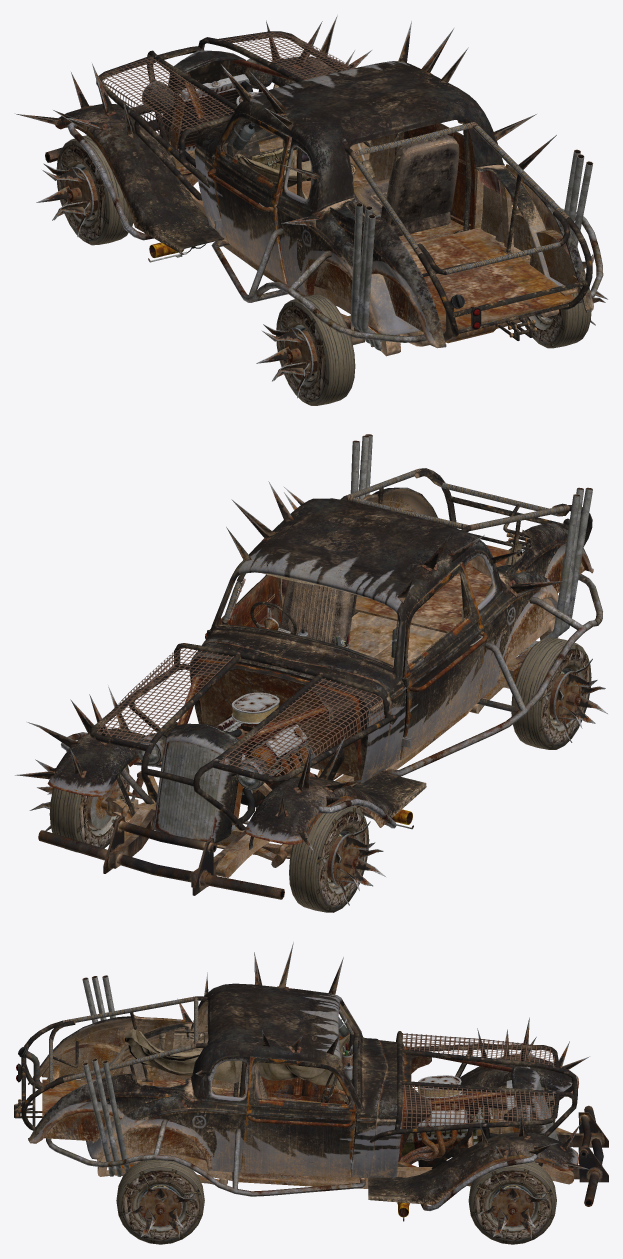
The picture shows the model from 3 angles, top to bottom: view 1: azimuth 30°, elevation 25°; view 2: azimuth 150°, elevation 25°; view 3: azimuth 270°, elevation 25°; orthographic projection. The views are drawn at different scales.
Visible parts, largest first — view 1: Mesh_0066_Tex_0054_0.dds_0, Mesh_0069_Tex_0045_0.dds_0, Mesh_0042_Tex_0042_0.dds_0, Mesh_079_Tex_0078_0.dds_0, Mesh_0073_Tex_0054_0.dds_0, Mesh_0001_Tex_0001_0.dds_0, Mesh_0047_Tex_0046_0.dds_0, Mesh_0075_Tex_0074_0.dds_0, Mesh_0077_Tex_0058_0.dds_0, Mesh_0051_Tex_0048_0.dds_0, Mesh_0078_Tex_0078_0.dds_0, Mesh_0049_Tex_0048_0.dds_0 (+4 smaller); view 2: Mesh_0066_Tex_0054_0.dds_0, Mesh_0069_Tex_0045_0.dds_0, Mesh_0001_Tex_0001_0.dds_0, Mesh_0073_Tex_0054_0.dds_0, Mesh_0078_Tex_0078_0.dds_0, Mesh_0071_Tex_0070_0.dds_0, Mesh_0075_Tex_0074_0.dds_0, Mesh_0042_Tex_0042_0.dds_0, Mesh_079_Tex_0078_0.dds_0, Mesh_0077_Tex_0058_0.dds_0, Mesh_0049_Tex_0048_0.dds_0, Mesh_0051_Tex_0048_0.dds_0 (+5 smaller); view 3: Mesh_0066_Tex_0054_0.dds_0, Mesh_0069_Tex_0045_0.dds_0, Mesh_0055_Tex_0054_0.dds_0, Mesh_0001_Tex_0001_0.dds_0, Mesh_0047_Tex_0046_0.dds_0, Mesh_079_Tex_0078_0.dds_0, Mesh_0078_Tex_0078_0.dds_0, Mesh_0049_Tex_0048_0.dds_0, Mesh_0075_Tex_0074_0.dds_0, Mesh_0051_Tex_0048_0.dds_0, Mesh_0077_Tex_0058_0.dds_0, Mesh_0071_Tex_0070_0.dds_0 (+6 smaller).
Part boxes in pixels (x1,y1,x2,y2): Mesh_0066_Tex_0054_0.dds_0: (55, 50, 593, 348); Mesh_0069_Tex_0045_0.dds_0: (96, 31, 592, 346); Mesh_0042_Tex_0042_0.dds_0: (223, 123, 471, 236); Mesh_079_Tex_0078_0.dds_0: (276, 293, 591, 405); Mesh_0073_Tex_0054_0.dds_0: (207, 113, 289, 283); Mesh_0001_Tex_0001_0.dds_0: (101, 32, 353, 151); Mesh_0047_Tex_0046_0.dds_0: (227, 118, 569, 340); Mesh_0075_Tex_0074_0.dds_0: (67, 59, 603, 342); Mesh_0077_Tex_0058_0.dds_0: (15, 15, 556, 226); Mesh_0051_Tex_0048_0.dds_0: (350, 149, 593, 350); Mesh_0078_Tex_0078_0.dds_0: (56, 135, 133, 245); Mesh_0049_Tex_0048_0.dds_0: (170, 74, 261, 167); Mesh_0066_Tex_0054_0.dds_0: (47, 487, 593, 849); Mesh_0069_Tex_0045_0.dds_0: (90, 468, 592, 877); Mesh_0001_Tex_0001_0.dds_0: (95, 647, 385, 775); Mesh_0073_Tex_0054_0.dds_0: (399, 562, 487, 759); Mesh_0078_Tex_0078_0.dds_0: (49, 765, 369, 912); Mesh_0071_Tex_0070_0.dds_0: (38, 809, 284, 899); Mesh_0075_Tex_0074_0.dds_0: (61, 574, 602, 828); Mesh_0042_Tex_0042_0.dds_0: (219, 564, 468, 668); Mesh_079_Tex_0078_0.dds_0: (511, 637, 591, 749); Mesh_0077_Tex_0058_0.dds_0: (15, 481, 564, 850); Mesh_0049_Tex_0048_0.dds_0: (216, 692, 318, 831); Mesh_0051_Tex_0048_0.dds_0: (332, 434, 592, 780); Mesh_0066_Tex_0054_0.dds_0: (16, 983, 578, 1204); Mesh_0069_Tex_0045_0.dds_0: (14, 996, 577, 1188); Mesh_0055_Tex_0054_0.dds_0: (240, 1057, 356, 1177); Mesh_0001_Tex_0001_0.dds_0: (400, 1033, 556, 1129); Mesh_0047_Tex_0046_0.dds_0: (18, 996, 353, 1103); Mesh_079_Tex_0078_0.dds_0: (116, 1159, 204, 1244); Mesh_0078_Tex_0078_0.dds_0: (468, 1085, 556, 1244); Mesh_0049_Tex_0048_0.dds_0: (400, 1075, 519, 1166); Mesh_0075_Tex_0074_0.dds_0: (46, 1053, 537, 1210); Mesh_0051_Tex_0048_0.dds_0: (82, 975, 133, 1176); Mesh_0077_Tex_0058_0.dds_0: (177, 942, 589, 1169); Mesh_0071_Tex_0070_0.dds_0: (534, 1105, 608, 1206).
Size of the model in its own units: 284 by 214 by 542.
17 materials, 17 textured.
